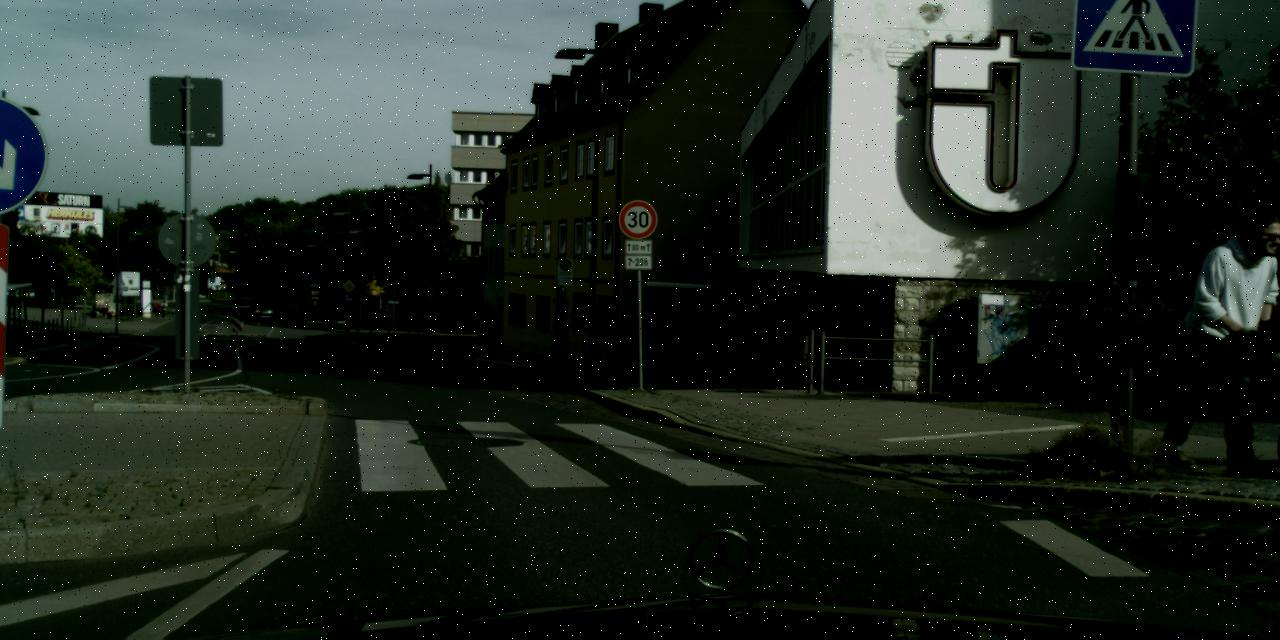ped: (1188, 212, 1278, 470), (636, 300, 662, 365), (154, 300, 168, 318)
